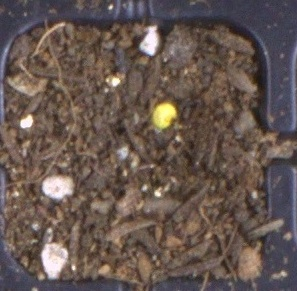chilli seed: (151, 102, 177, 130)
